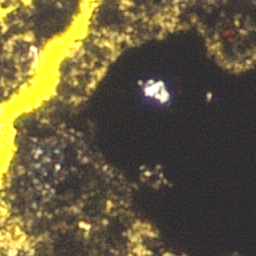cement_matrix: (0, 0, 255, 255), (0, 0, 80, 103), (146, 83, 164, 98), (0, 247, 10, 255)
cracks: (0, 0, 98, 189), (0, 230, 26, 255), (0, 5, 7, 21), (0, 204, 5, 217)
gravel_crushed_stones: (147, 84, 163, 97), (21, 0, 29, 2)
